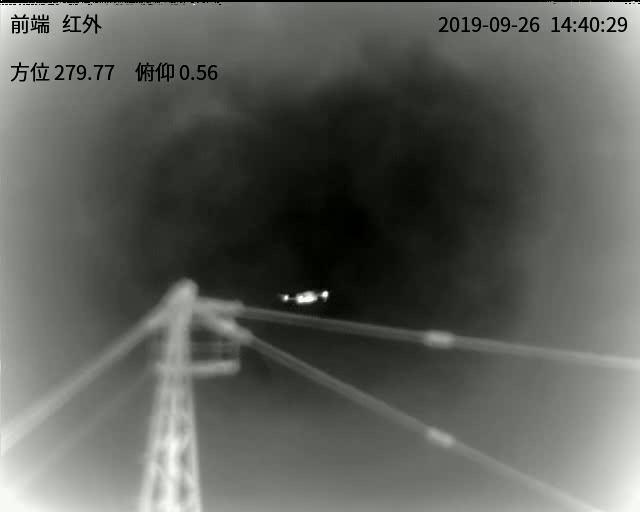DRONE: (279, 289, 331, 304)
